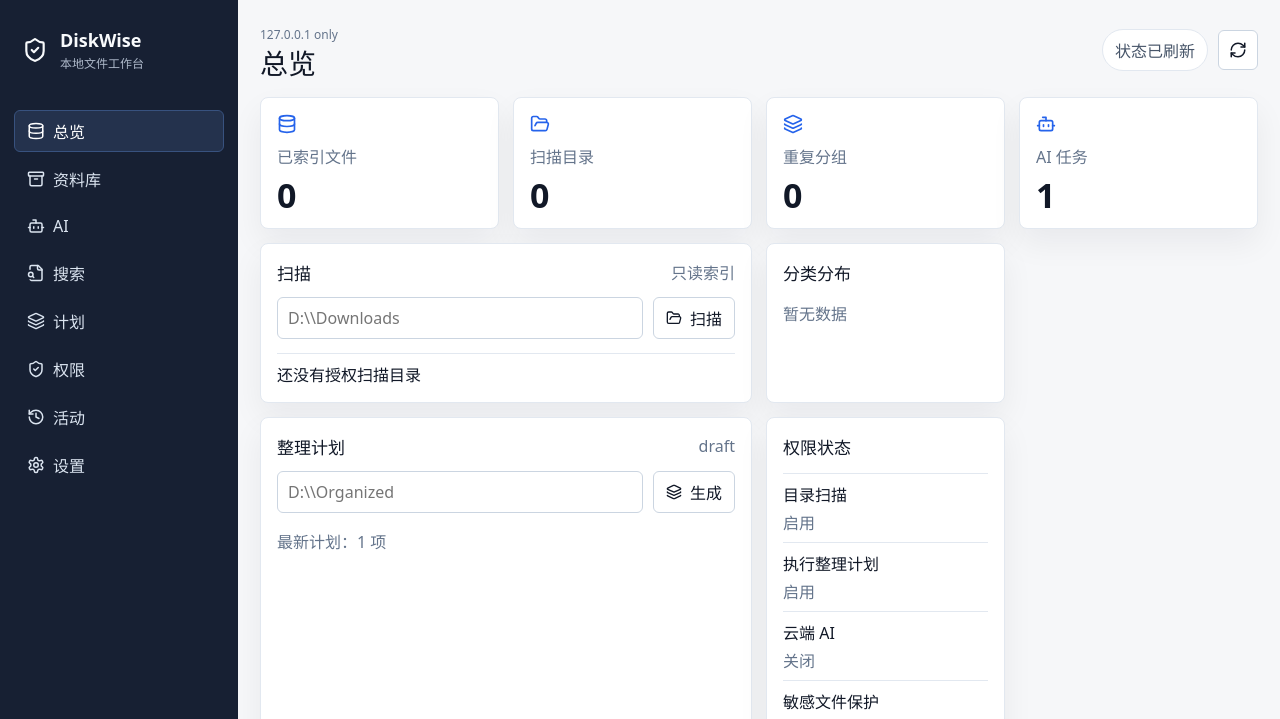
Test case: DiskWise web workbench › shows duplicate groups from the search mode
Expected: the text "已索引文件" is shown, [277,146,357,168]
Click the button "搜索" at (119, 273), box [14,252,224,294]
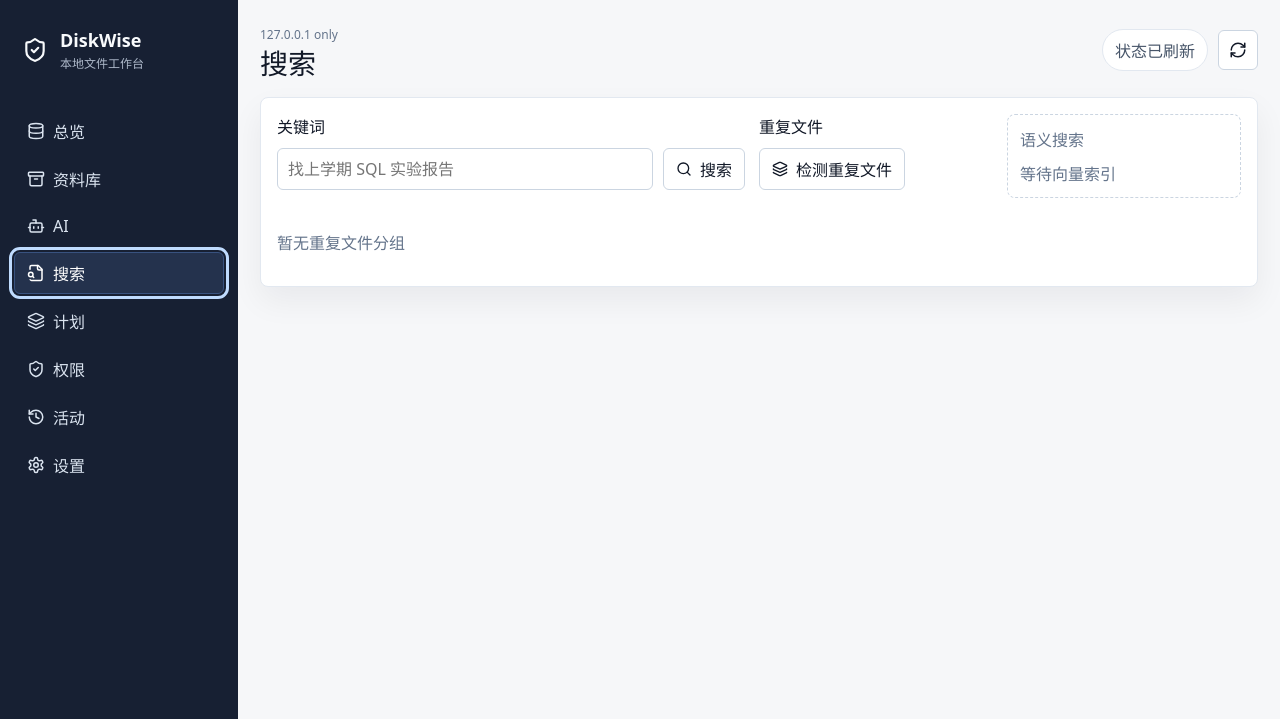
Click the button "检测重复文件" at (832, 169), box [759,148,905,190]
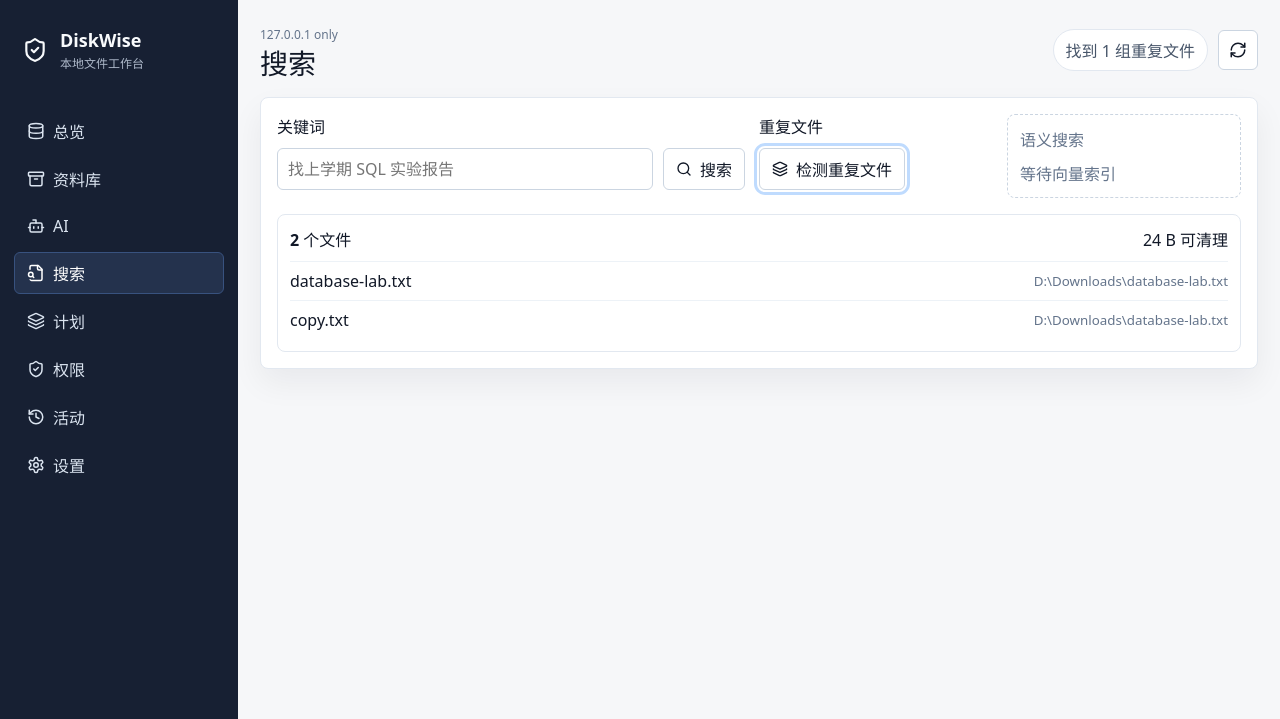
Expected: the text "2 个文件" is shown, [290,227,351,251]
Expected: the text "copy.txt" is shown, [290,309,349,331]
